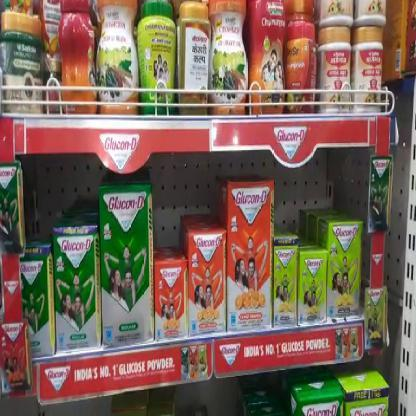Glucon D Nimbu Pani 1-KG: (328, 221, 364, 326)
Glucon D Regular 1-KG: (102, 190, 152, 350), (55, 228, 99, 356)
Glucon D Tangy orange 1-KG: (226, 181, 272, 333), (188, 232, 227, 335)
